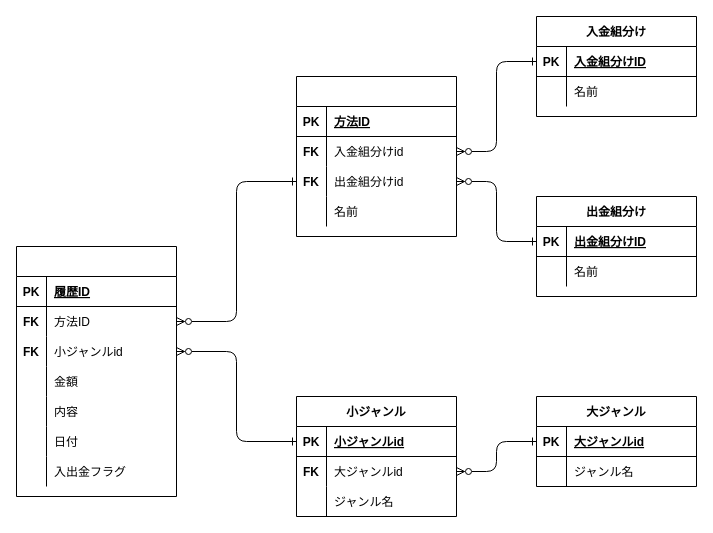
The diagram is 713 pixels wide and 533 high, and some of its shapes have lost their labels. Each missing label, with the box of its shape:
履歴: (16, 246, 176, 496)
方法: (296, 76, 456, 236)
